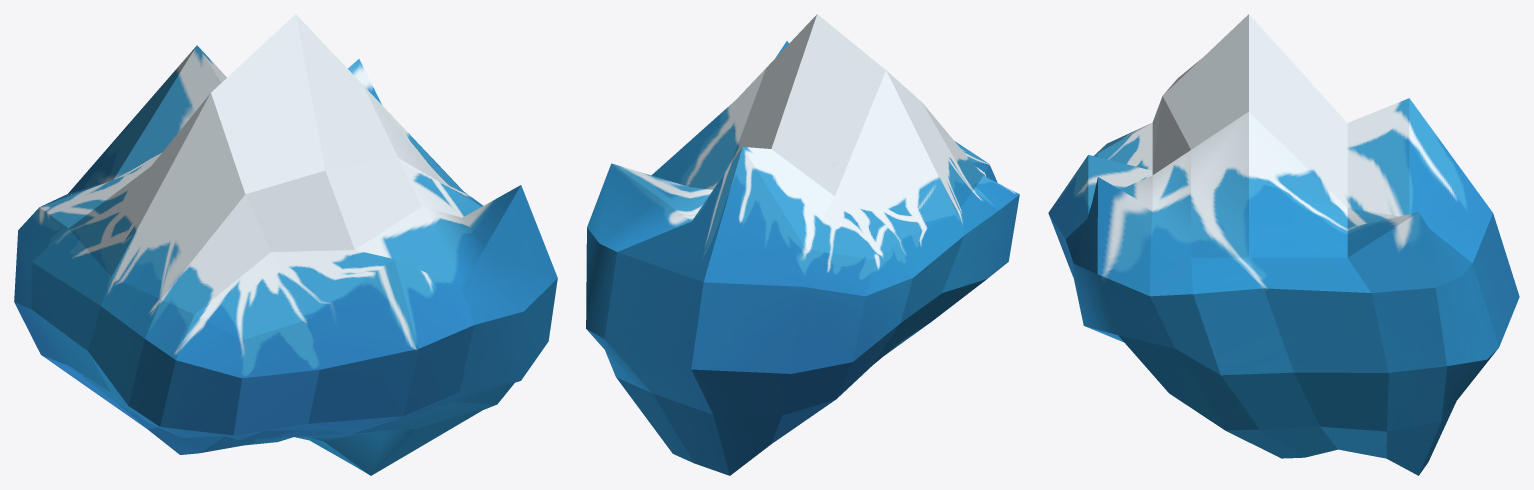
Rendered from Floating_Ice_Burg.fbx.
3 views of the same model, side by side, from view 1: azimuth 30°, elevation 25°; view 2: azimuth 150°, elevation 25°; view 3: azimuth 270°, elevation 25° (orthographic). The views are drawn at different scales.
Parts seen in each view (by area): view 1: pCube1; view 2: pCube1; view 3: pCube1.
Part boxes in pixels (left/top/right/bottom): pCube1: left=14, top=14, right=557, bottom=475; pCube1: left=586, top=14, right=1019, bottom=475; pCube1: left=1048, top=14, right=1519, bottom=475.
Bounding box in the file's own units: 0.1177 × 0.1487 × 0.1486.
